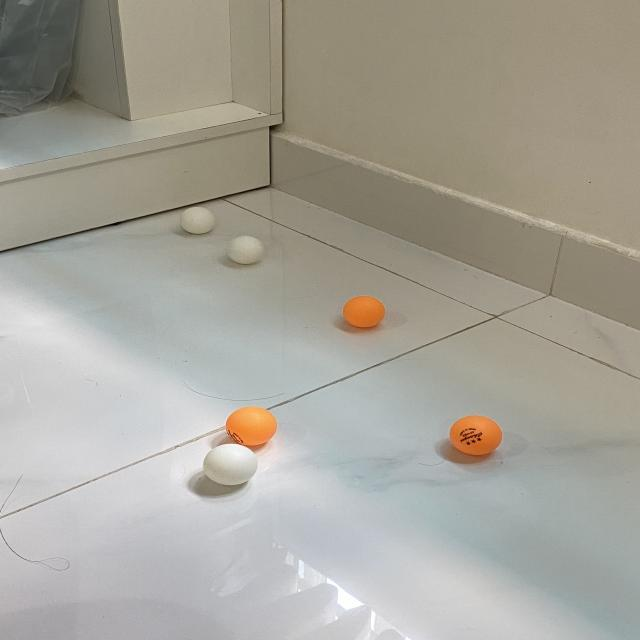ping-pong-ball: (450, 414, 504, 456), (225, 405, 278, 447), (205, 444, 259, 484), (344, 295, 386, 327), (226, 236, 264, 265), (182, 206, 216, 234)
